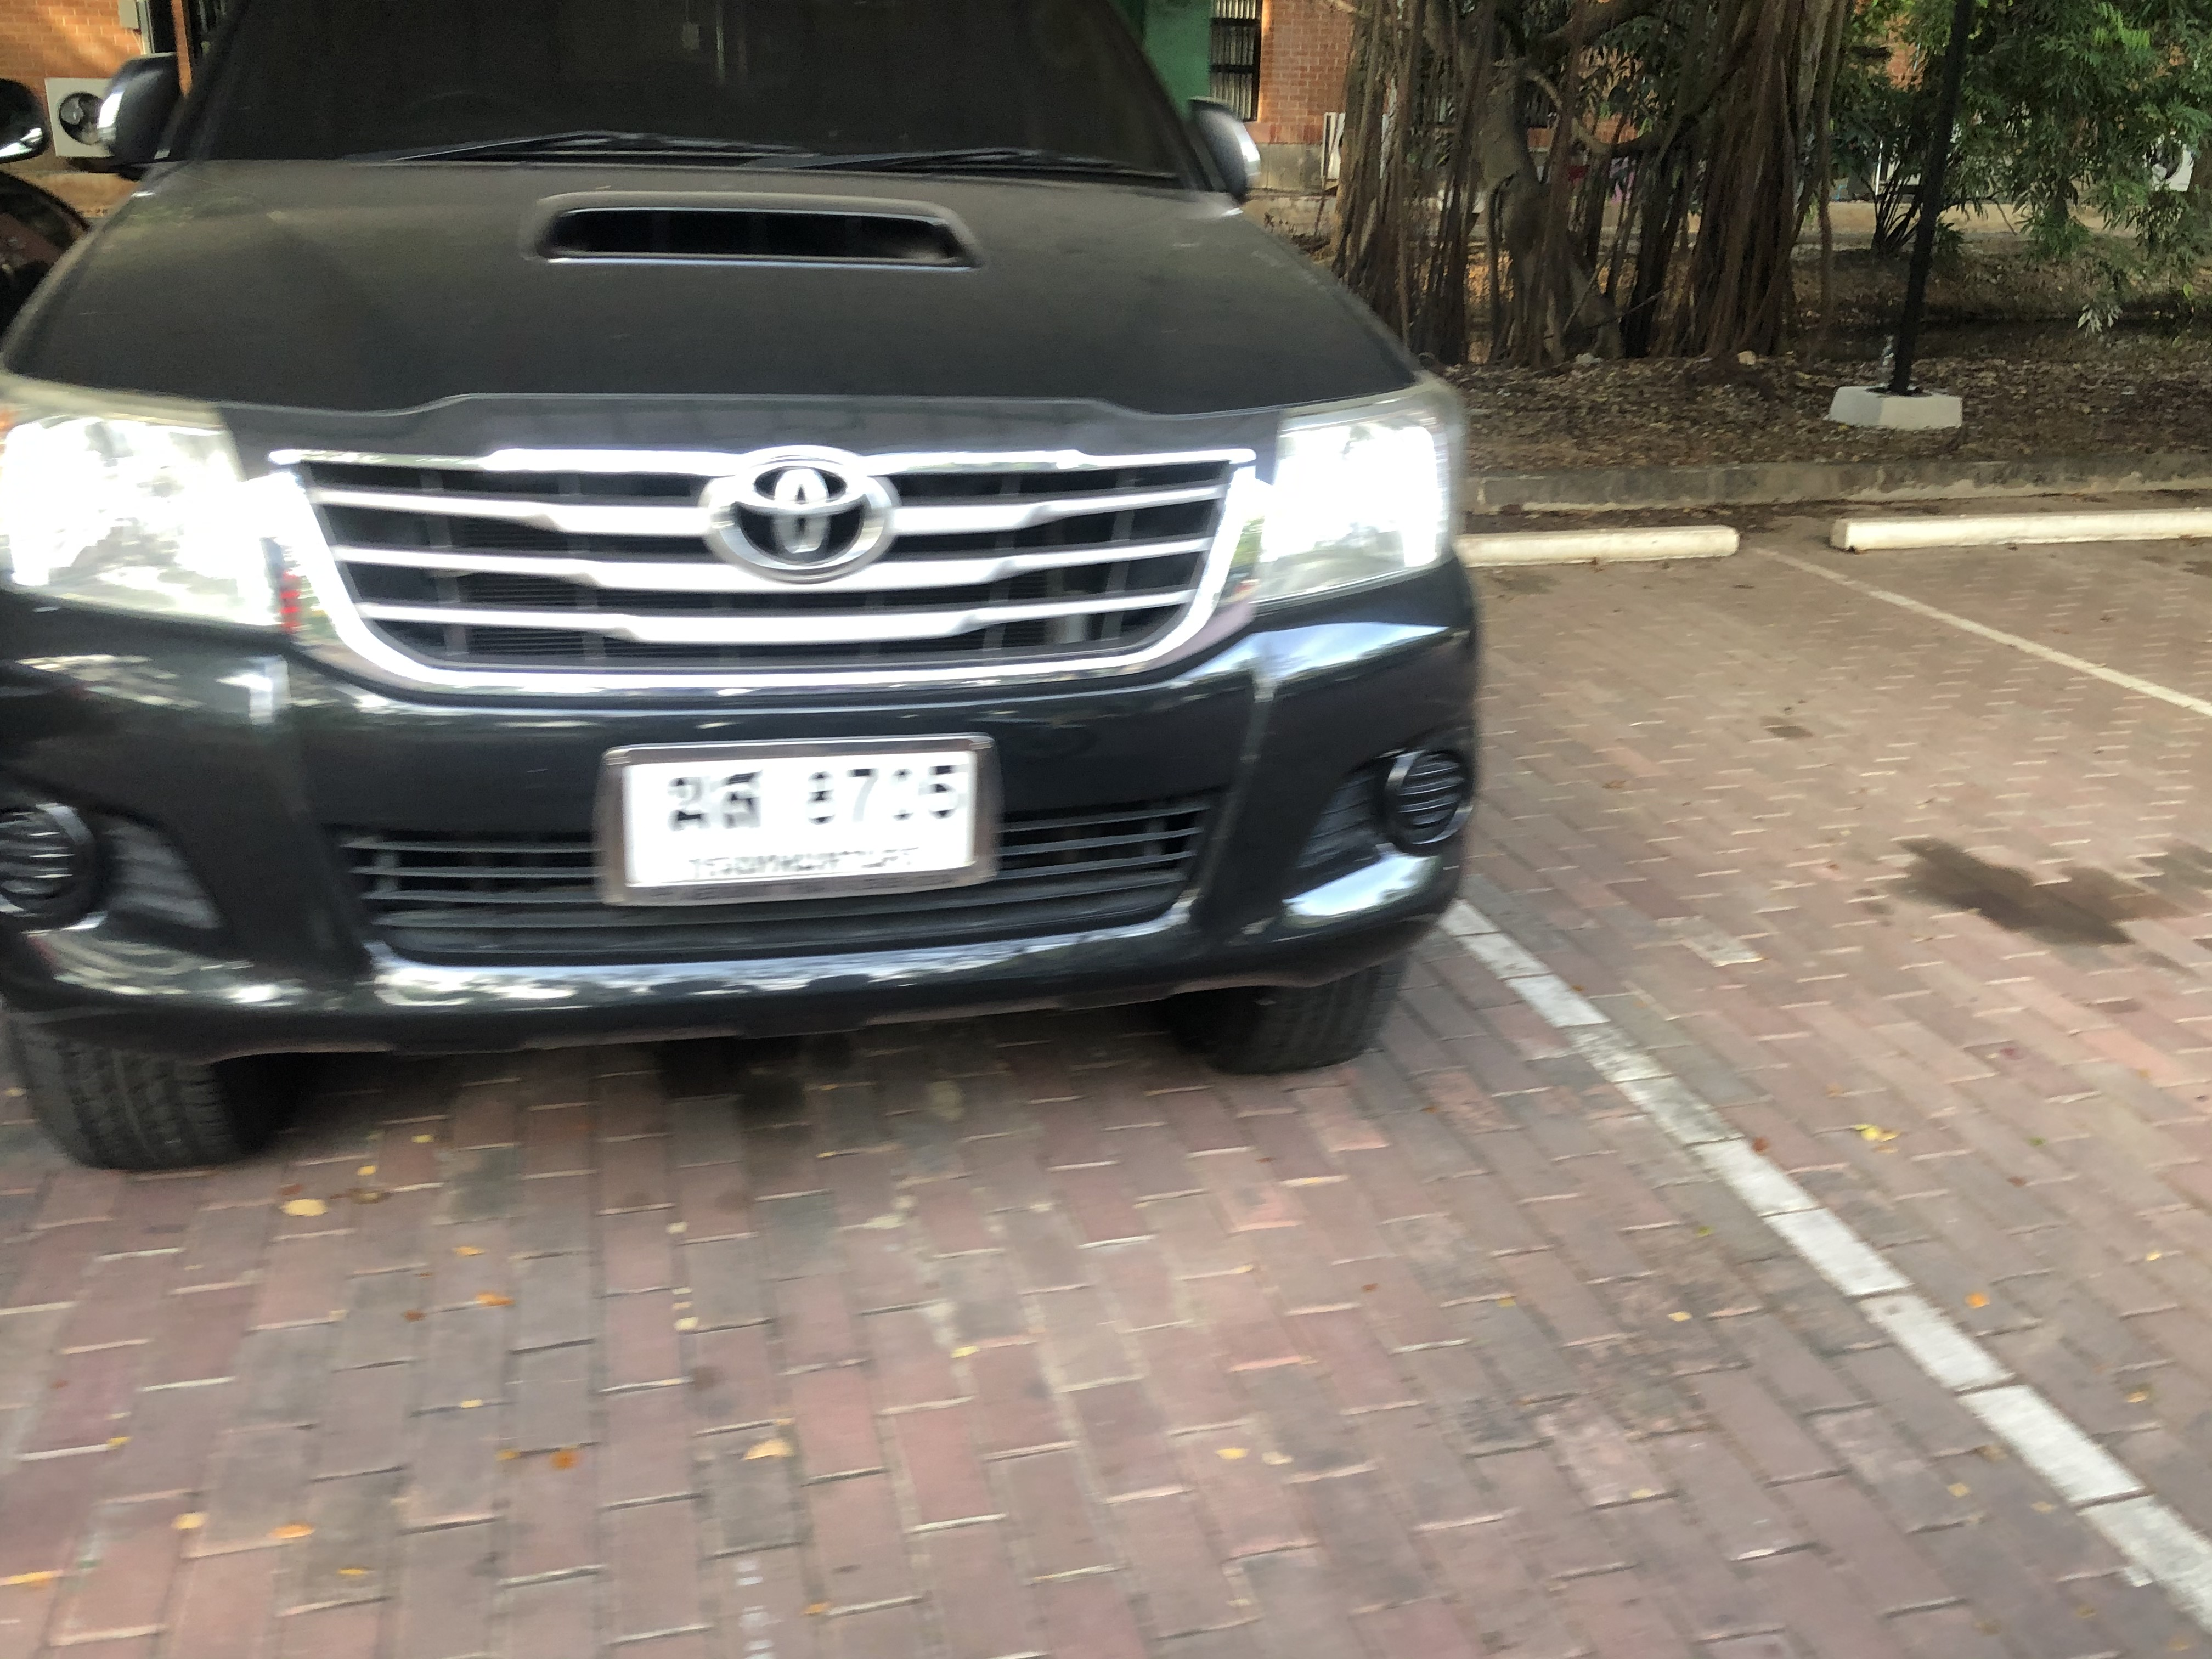in: (624, 755, 977, 875)
out: (587, 732, 1003, 910)
